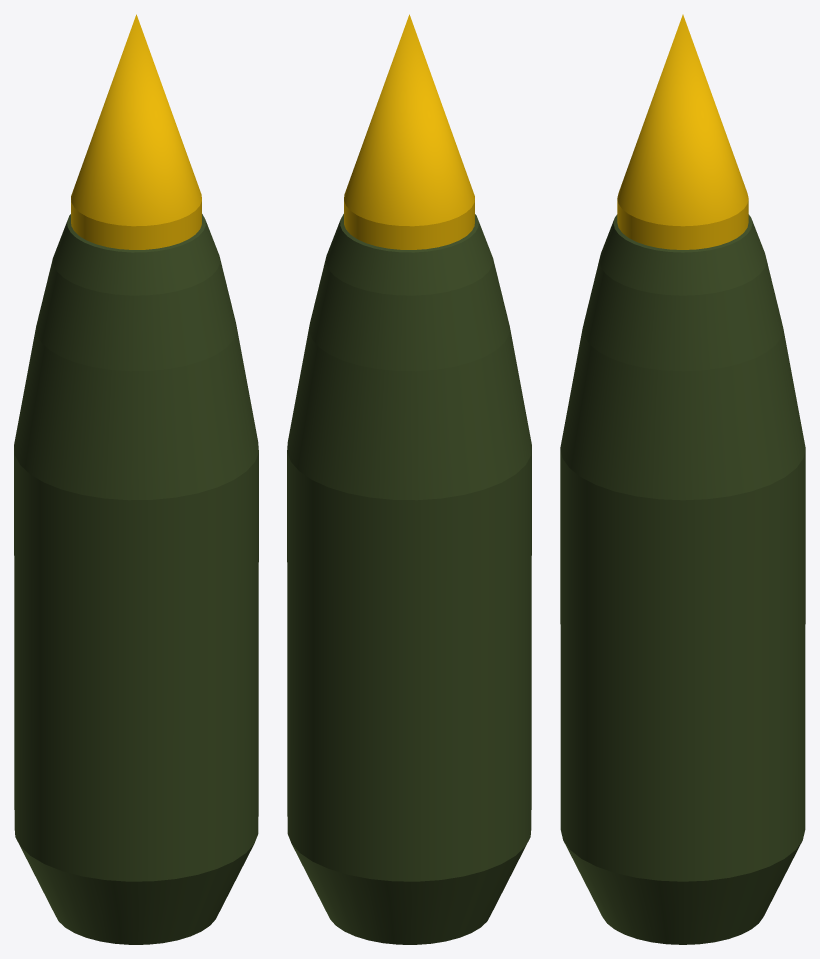
File: artilleryShell.fbx
3 views of the same model, side by side, from view 1: azimuth 30°, elevation 25°; view 2: azimuth 150°, elevation 25°; view 3: azimuth 270°, elevation 25° (orthographic).
Visible parts, largest first — view 1: Cone; view 2: Cone; view 3: Cone.
Part boxes in pixels (bbox=[...]): Cone: bbox=[14, 14, 258, 944]; Cone: bbox=[287, 14, 531, 944]; Cone: bbox=[560, 14, 805, 944].
Size of the model in its own units: 386 by 1557 by 386.
